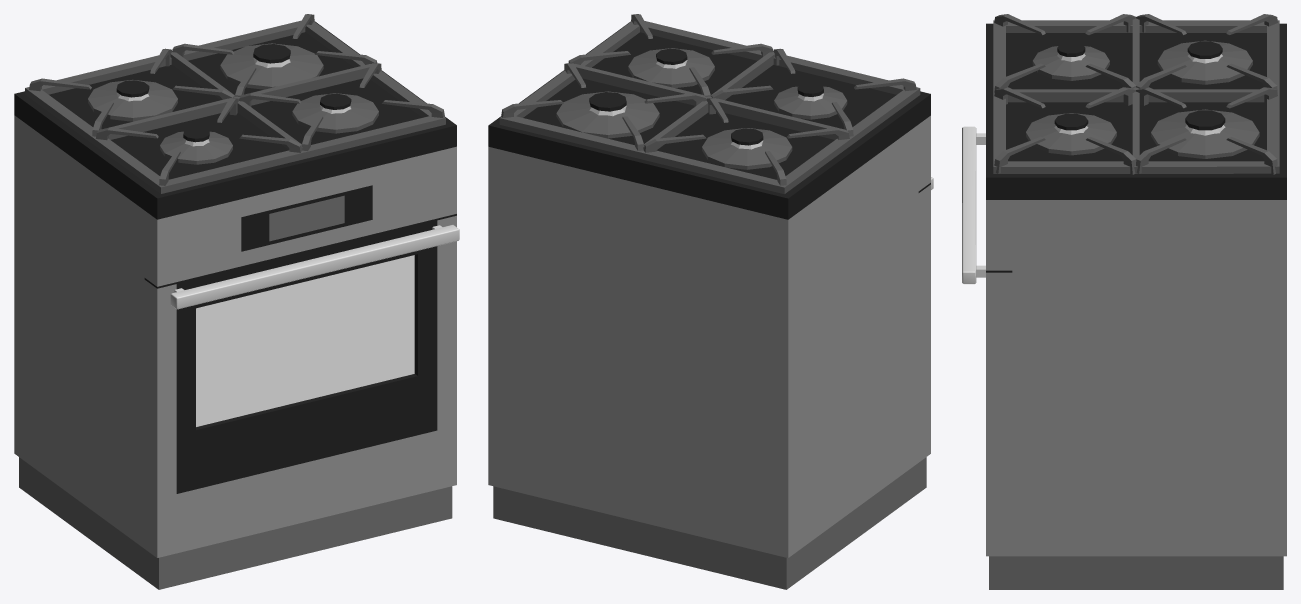
The model's file is kitchen_031.fbx.
3 views of the same model, side by side, from view 1: azimuth 30°, elevation 25°; view 2: azimuth 150°, elevation 25°; view 3: azimuth 270°, elevation 25° (orthographic). The views are drawn at different scales.
Visible parts, largest first — view 1: kitchen_031; view 2: kitchen_031; view 3: kitchen_031.
Part boxes in pixels (left/top/right/bottom): kitchen_031: left=14, top=14, right=459, bottom=589; kitchen_031: left=488, top=14, right=933, bottom=589; kitchen_031: left=962, top=14, right=1286, bottom=589.
Bounding box in the file's own units: 86 × 76.62 × 112.
